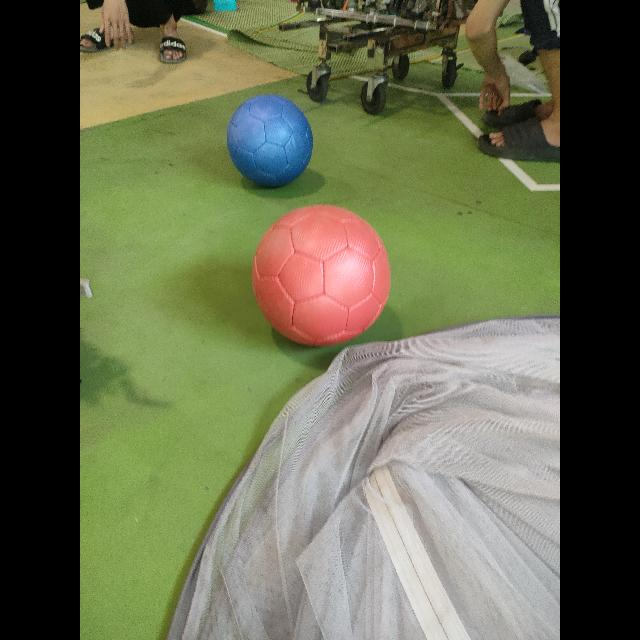B: (226, 96, 315, 190)
R: (251, 205, 392, 349)
